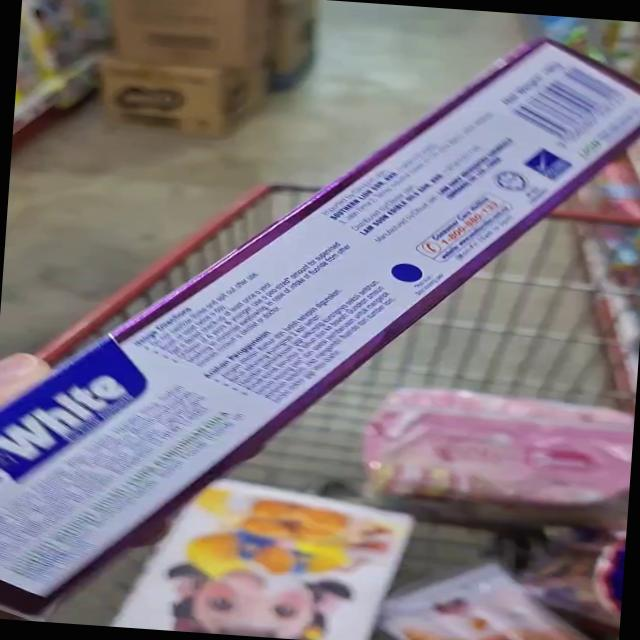Tisu: (145, 487, 394, 640)
Ubat Gigi: (331, 31, 640, 285), (178, 189, 474, 417), (0, 313, 149, 606)
